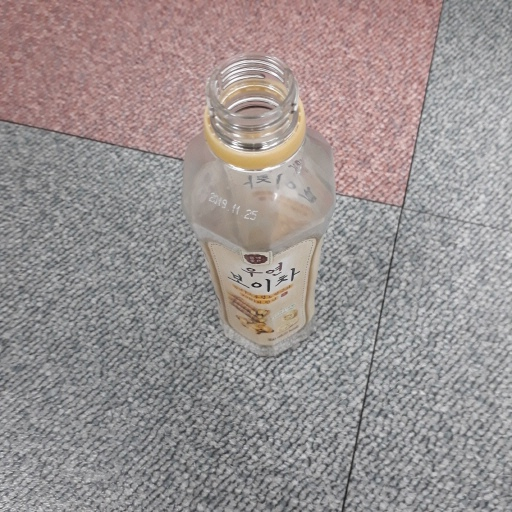Plastic_0: (176, 55, 340, 355)
